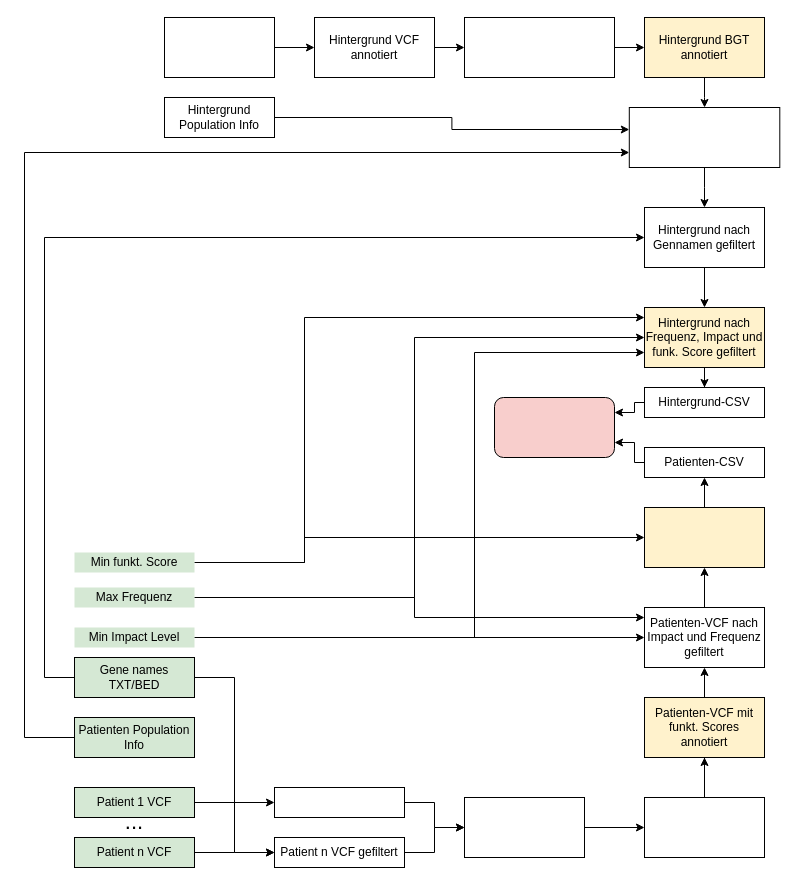
Image size: 798x885. Some labels were removed from this diagram. The shapes that lost their labels are listed below. From the top down, each one's centre as x and y in pixels, then its label:
At pixel 219 47: "Hintergrund VCF".
At pixel 539 47: "Hintergrund VCF annotiert mit funktionalen Scores".
At pixel 704 137: "Hintergrund von relevanten Populationen".
At pixel 554 427: "Output Statistiken".
At pixel 704 537: "Patienten-VCF nach funkt. Scores gefiltert".
At pixel 339 802: "Patient 1 VCF gefiltert".
At pixel 524 827: "Patienten-VCF nach Gennamen gefiltert".
At pixel 704 827: "Patienten-VCF annotiert".
